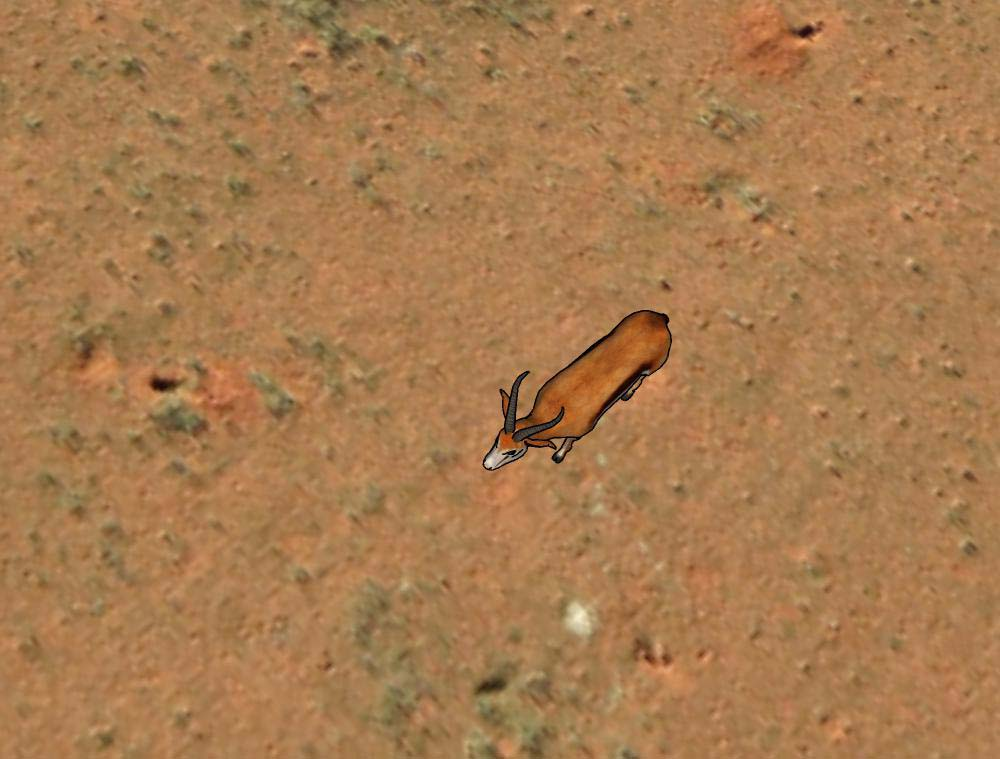springbok: (478, 308, 674, 482)
